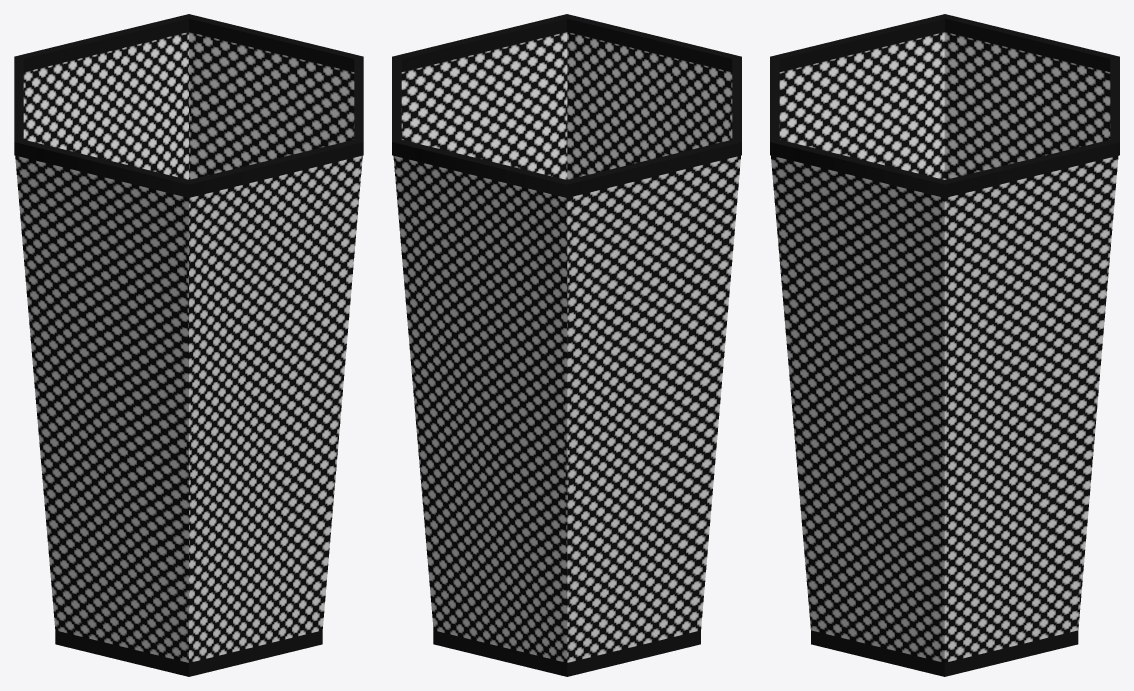
The model's file is Trashcan.FBX.
3 renders of one model, left to right at view 1: azimuth 30°, elevation 25°; view 2: azimuth 150°, elevation 25°; view 3: azimuth 270°, elevation 25°, orthographic.
Visible parts, largest first — view 1: Trashcan2; view 2: Trashcan2; view 3: Trashcan2.
Part boxes in pixels (x1,y1,x2,y2): Trashcan2: (14,14,363,676); Trashcan2: (392,14,741,676); Trashcan2: (770,14,1119,676).
Bounding box in the file's own units: 43.39 × 60.77 × 37.58.
